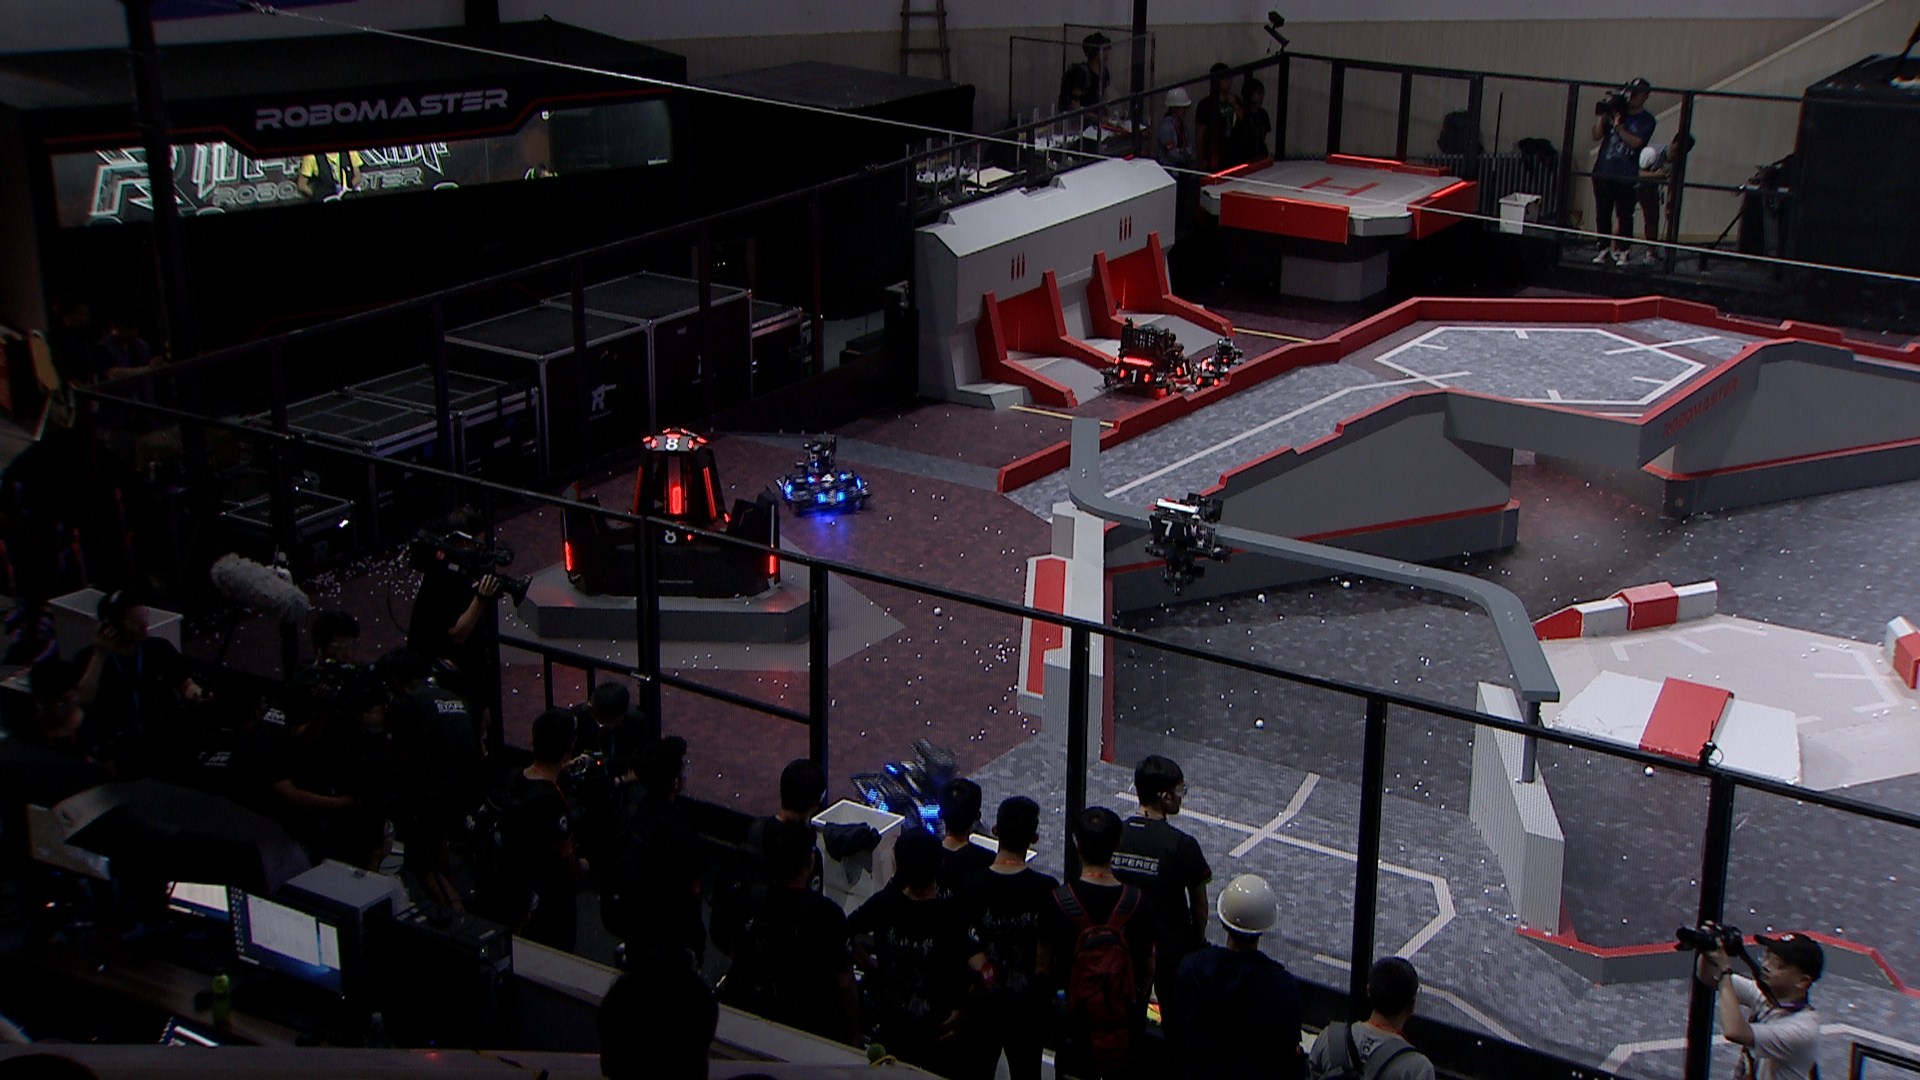armor: (1145, 517, 1189, 541), (700, 465, 717, 524), (626, 465, 645, 517), (647, 436, 698, 455), (864, 785, 891, 815), (666, 480, 684, 517), (1116, 367, 1153, 385), (659, 527, 694, 546), (560, 538, 576, 575), (803, 472, 847, 485), (814, 489, 847, 506), (1174, 357, 1193, 378), (764, 553, 779, 575), (1207, 363, 1232, 375), (778, 479, 795, 496)
base: (558, 429, 783, 603)
car: (849, 738, 984, 847), (769, 433, 874, 516), (1101, 316, 1196, 400), (1185, 335, 1249, 396)
watcher: (1143, 491, 1230, 597)
